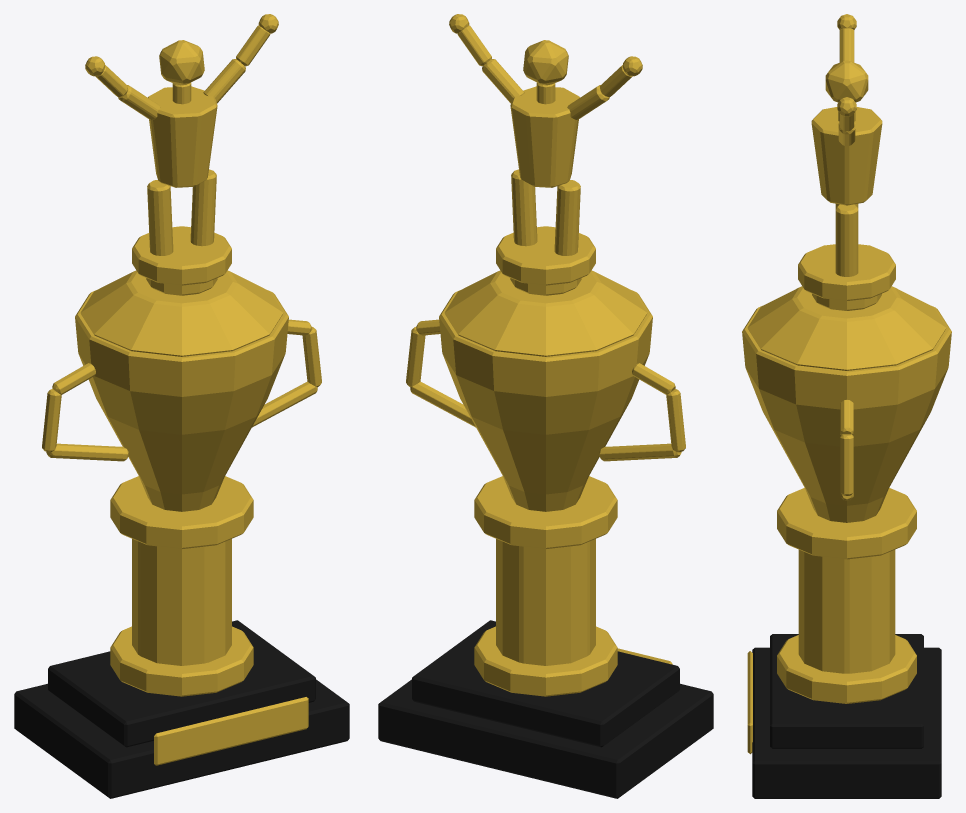
Rendered from trofeo.fbx.
3 views of the same model, side by side, from view 1: azimuth 30°, elevation 25°; view 2: azimuth 150°, elevation 25°; view 3: azimuth 270°, elevation 25° (orthographic). The views are drawn at different scales.
Parts seen in each view (by area): view 1: trofeo_Base_Escalonada; view 2: trofeo_Base_Escalonada; view 3: trofeo_Base_Escalonada.
Part boxes in pixels (bbox=[...]): trofeo_Base_Escalonada: bbox=[14, 14, 349, 798]; trofeo_Base_Escalonada: bbox=[378, 14, 713, 798]; trofeo_Base_Escalonada: bbox=[742, 14, 951, 798].
Size of the model in its own units: 0.2536 by 0.61 by 0.1694.
